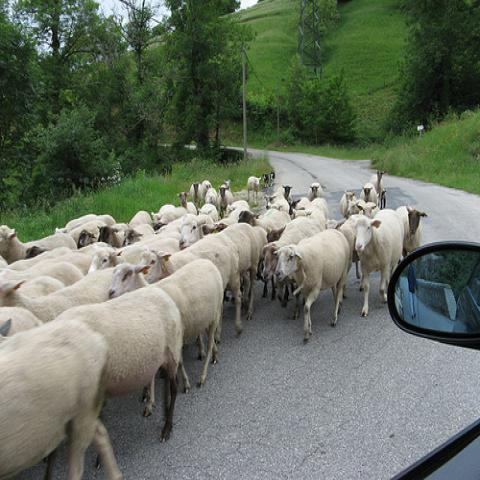car: (383, 233, 479, 479)
